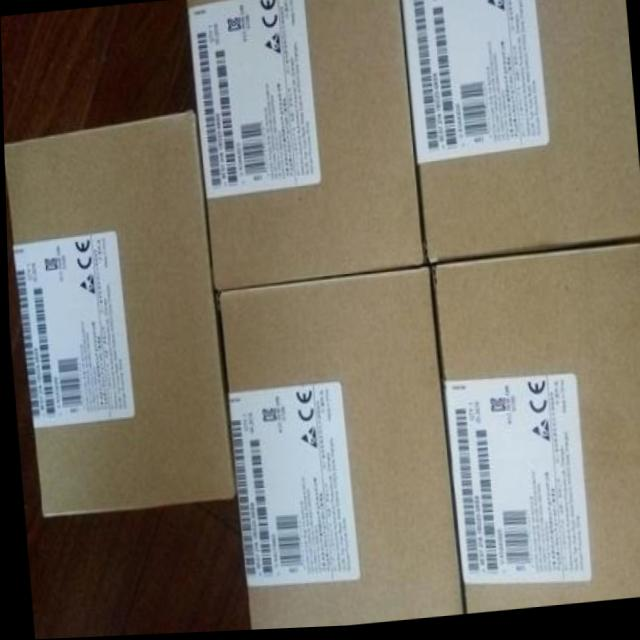box: (3, 111, 231, 518), (215, 270, 460, 632), (427, 248, 640, 618), (186, 0, 423, 292), (401, 0, 640, 269)
